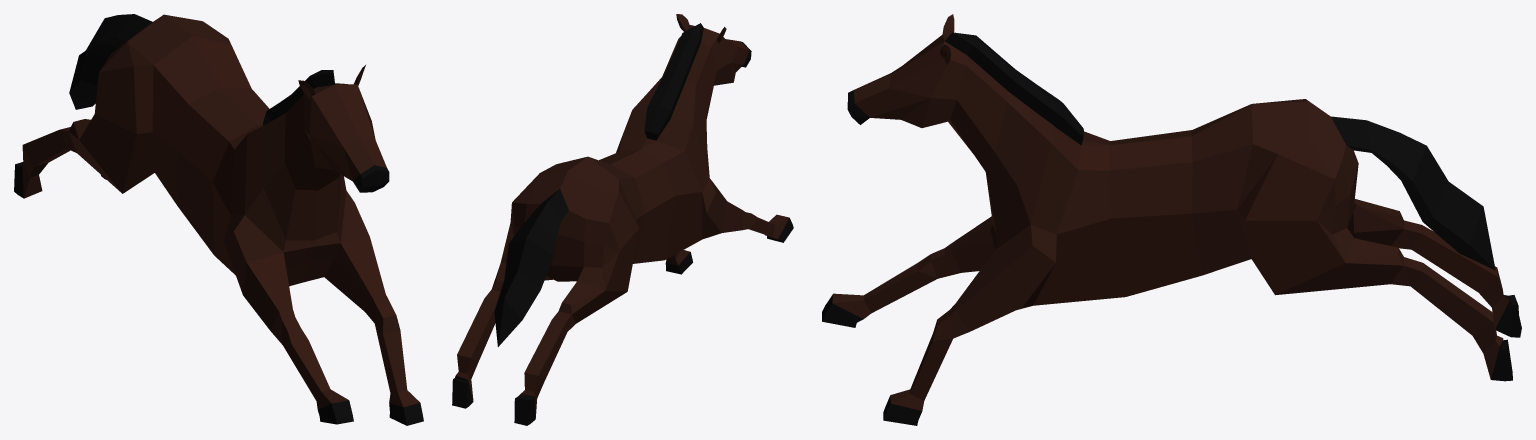
The model's file is Horse_000017.obj.
3 views of the same model, side by side, from view 1: azimuth 30°, elevation 25°; view 2: azimuth 150°, elevation 25°; view 3: azimuth 270°, elevation 25° (orthographic). The views are drawn at different scales.
Parts seen in each view (by area): view 1: Horse_Cylinder; view 2: Horse_Cylinder; view 3: Horse_Cylinder.
Part boxes in pixels (bbox=[...]): Horse_Cylinder: bbox=[14, 14, 423, 425]; Horse_Cylinder: bbox=[452, 14, 793, 425]; Horse_Cylinder: bbox=[822, 14, 1521, 425].
Bounding box in the file's own units: 2.56 × 6.18 × 10.75.
